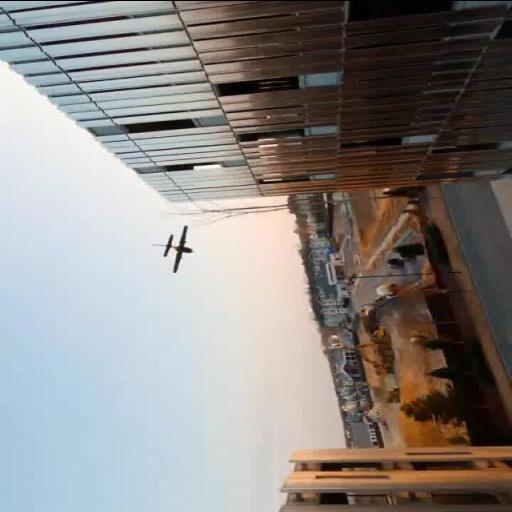uav: (151, 220, 211, 272)
